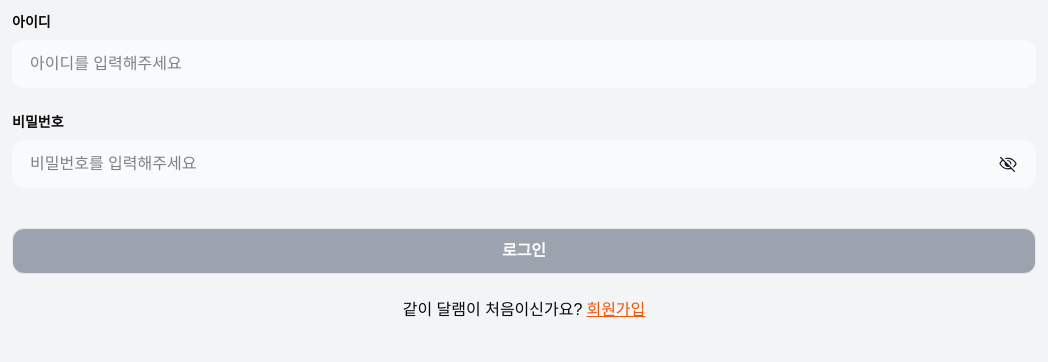
Scenario: SigninForm 통합 테스트 › 비밀번호가 8자 이상이 아니면 "비밀번호가 8자 이상이 되도록 해 주세요"라는 에러 메시지가 표시된다 › 입력 후 포커스 이동 (blur)
The width and height of the screenshot is (1048, 362).
Type "8888" into the password field labelled "비밀번호" at (514,164), box [30,152,998,176]
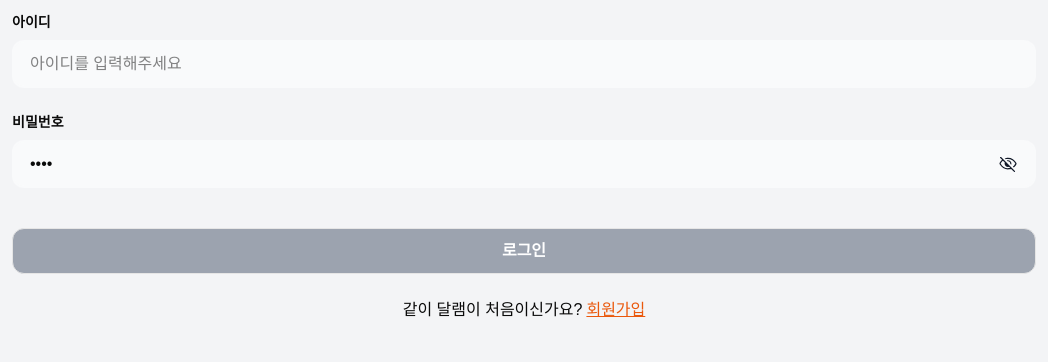
Leave the password field labelled "비밀번호", box [30,152,998,176]
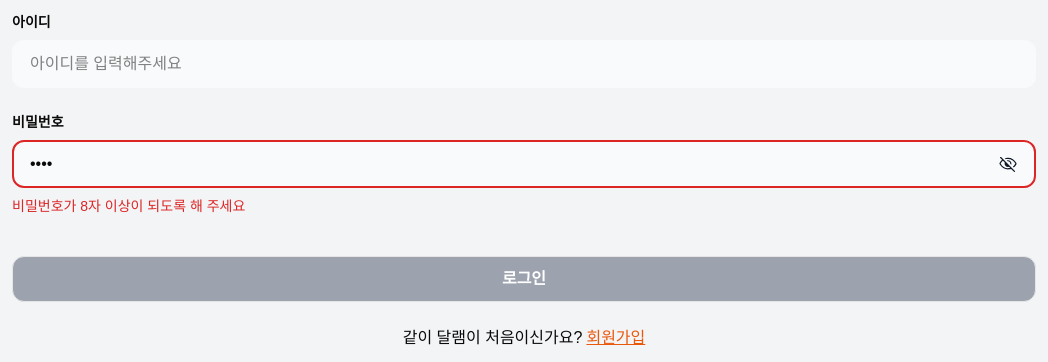
Check: the text "비밀번호가 8자 이상이 되도록 해 주세요" is shown, box [12,198,245,214]
